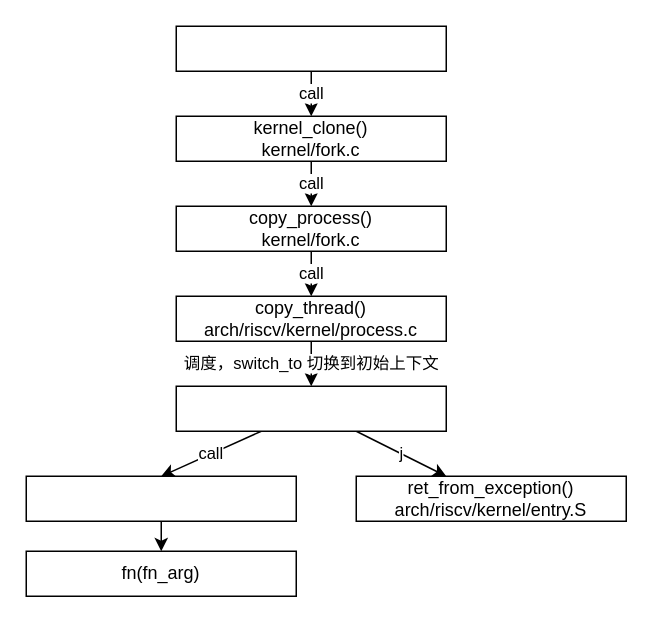
This 653x623 diagram has some shape labels left out. Here are the shapes that lost their labels. From the top down, the centre of each, then its label:
the point at 310,48: kernel_thread() kernel/fork.c
the point at 310,408: ret_from_fork_kernel_asm() arch/riscv/kernel/entry.S
the point at 160,498: ret_from_fork_kernel() arch/riscv/kernel/process.c
